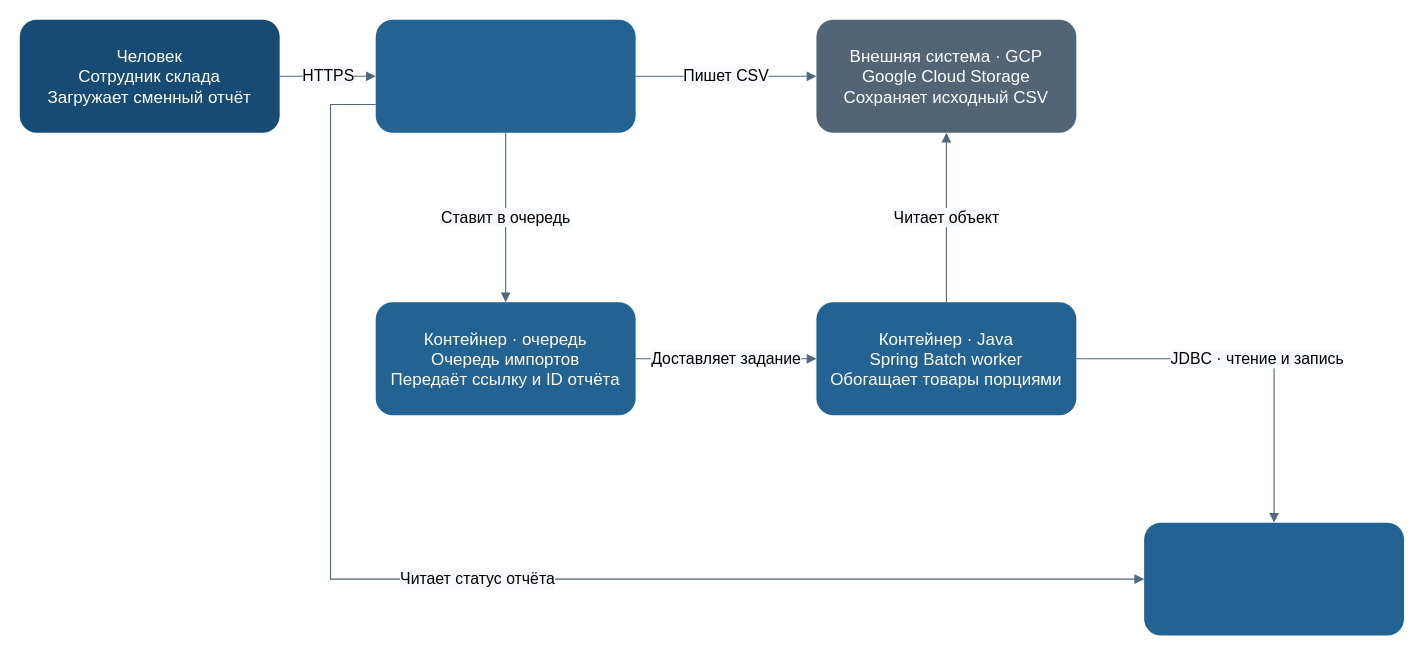
Some shapes in this 1423 by 654 pixel diagram are drawn without their labels. The centre of each missing label's shape, as x and y in pixels:
"Контейнер · Java ERP / API Валидирует файл, создаёт заявку" belongs at pixel 505 75.
"Контейнер · БД PostgreSQL Справочник, товары, метаданные" belongs at pixel 1273 578.
